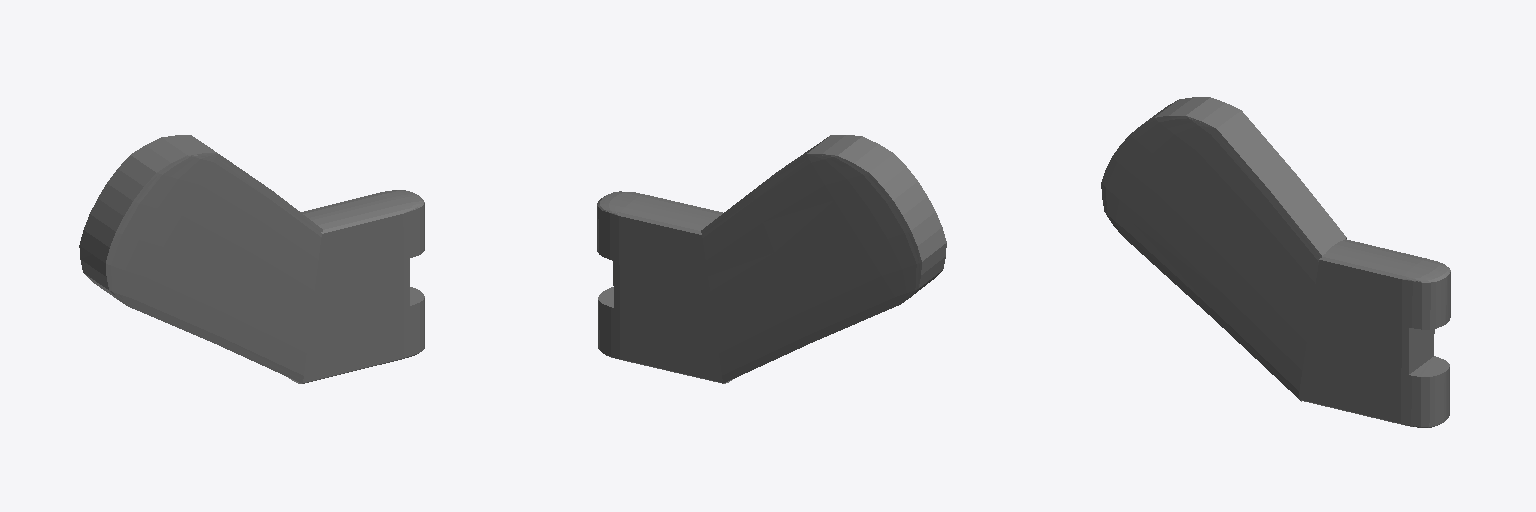
The model's file is leftConnector.obj.
The picture shows the model from 3 angles: view 1: azimuth 30°, elevation 25°; view 2: azimuth 150°, elevation 25°; view 3: azimuth 330°, elevation 25°; orthographic projection.
Visible parts, largest first — view 1: freedom:ChafCaja1295 leftConnector, leftConnector freedom:ChafCaja1296; view 2: freedom:ChafCaja1295 leftConnector, leftConnector freedom:ChafCaja1296; view 3: freedom:ChafCaja1295 leftConnector, leftConnector freedom:ChafCaja1296.
Boxes of the visible parts, x1=… form: freedom:ChafCaja1295 leftConnector: x1=79, y1=135, x2=322, y2=383; leftConnector freedom:ChafCaja1296: x1=288, y1=190, x2=424, y2=383; freedom:ChafCaja1295 leftConnector: x1=701, y1=135, x2=946, y2=383; leftConnector freedom:ChafCaja1296: x1=597, y1=191, x2=732, y2=383; freedom:ChafCaja1295 leftConnector: x1=1101, y1=97, x2=1346, y2=401; leftConnector freedom:ChafCaja1296: x1=1298, y1=239, x2=1450, y2=427.
Size of the model in its own units: 24.2 by 18.18 by 3.75.